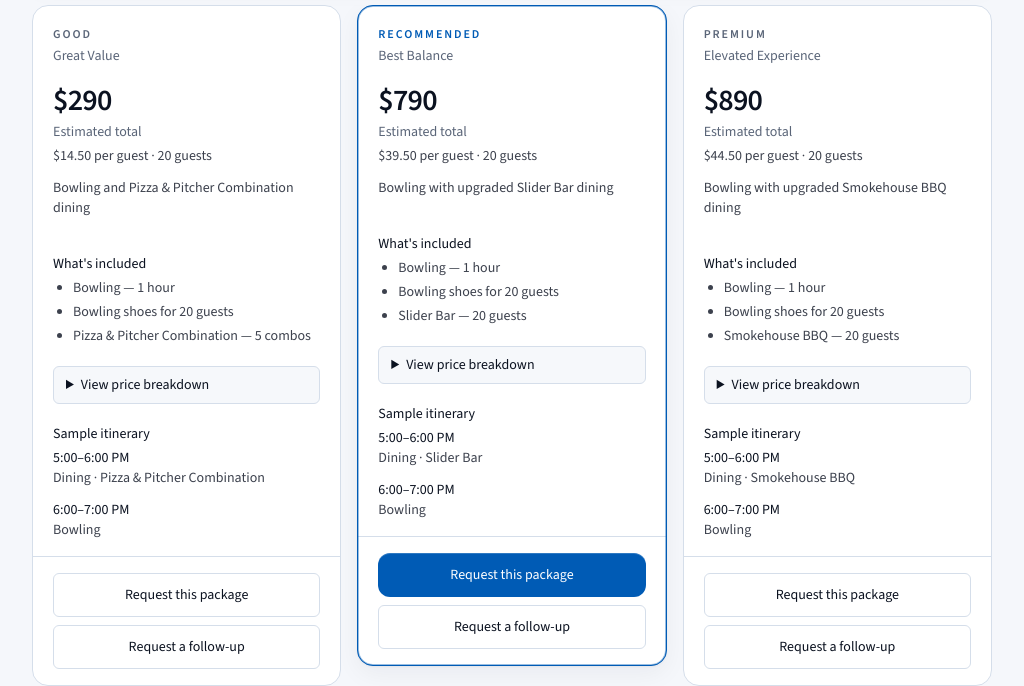
Test: simplified bowling-only package cards › keeps the price breakdown collapsed until a customer opens it
The image size is (1024, 686).
(page scrolled)
Click the heading "View price breakdown" below "Pizza & Pitcher Combination — 5 combos" at coordinates (145, 384), box [81,375,209,394]
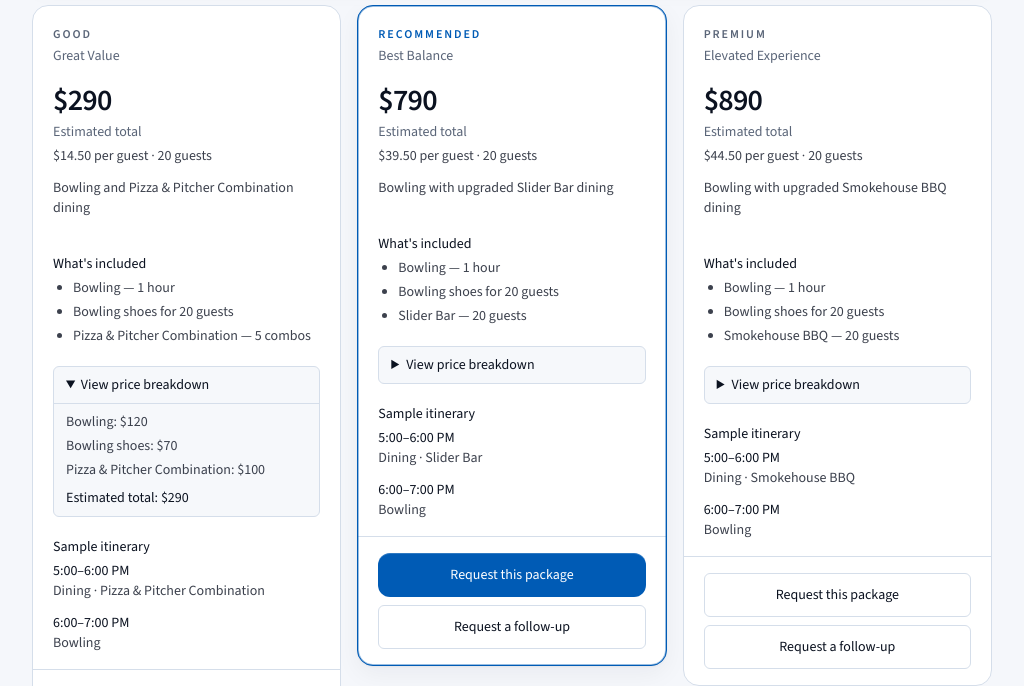
Check: the text "Bowling: $120" is shown, box [53,366,320,517]
Check: the text "Bowling shoes: $70" is shown, box [53,366,320,517]
Check: the text "Pizza & Pitcher Combination: $100" is shown, box [53,366,320,517]
